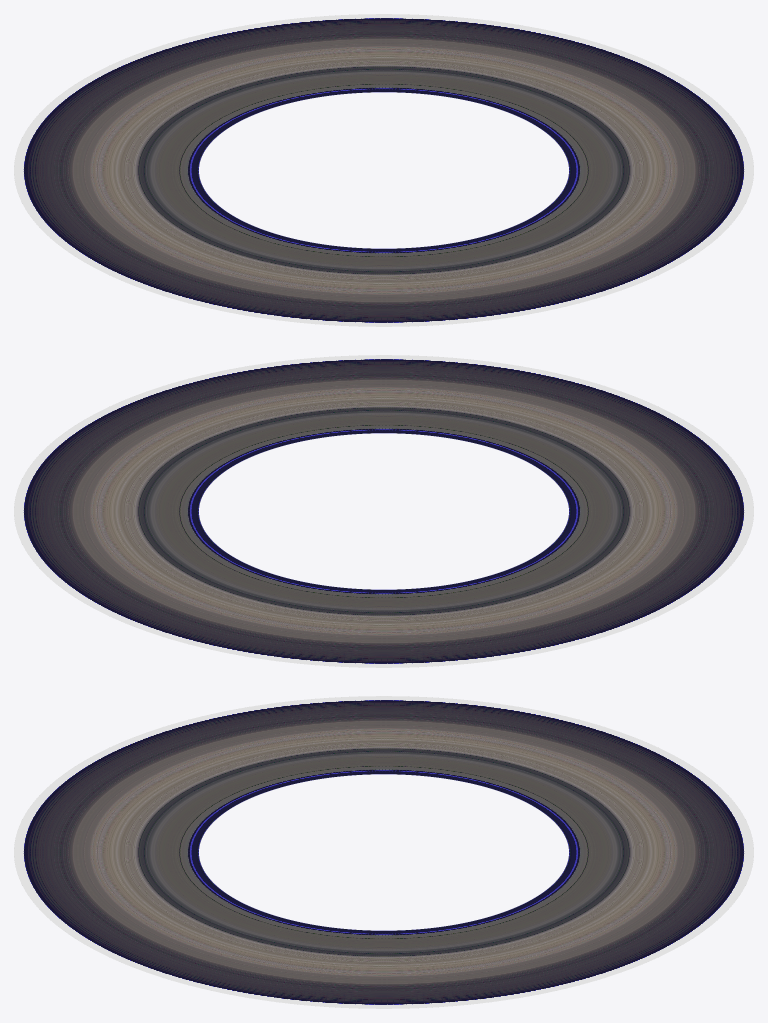
Rendered from PlanetaryRing.fbx.
3 views of the same model, one above another, from view 1: azimuth 30°, elevation 25°; view 2: azimuth 150°, elevation 25°; view 3: azimuth 270°, elevation 25° (orthographic).
Parts seen in each view (by area): view 1: PlanetaryRing; view 2: PlanetaryRing; view 3: PlanetaryRing.
Part boxes in pixels (x1=…): PlanetaryRing: x1=14, y1=14, x2=753, y2=326; PlanetaryRing: x1=14, y1=355, x2=753, y2=667; PlanetaryRing: x1=14, y1=696, x2=753, y2=1008.
Size of the model in its own units: 6 by 0 by 6.
